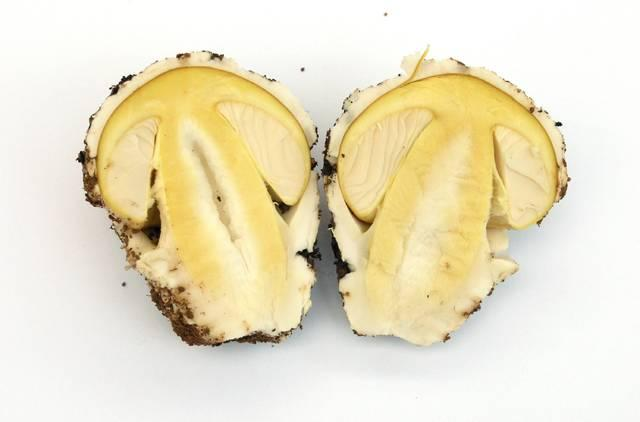edible_mushroom: (320, 44, 570, 346), (76, 48, 322, 347)
